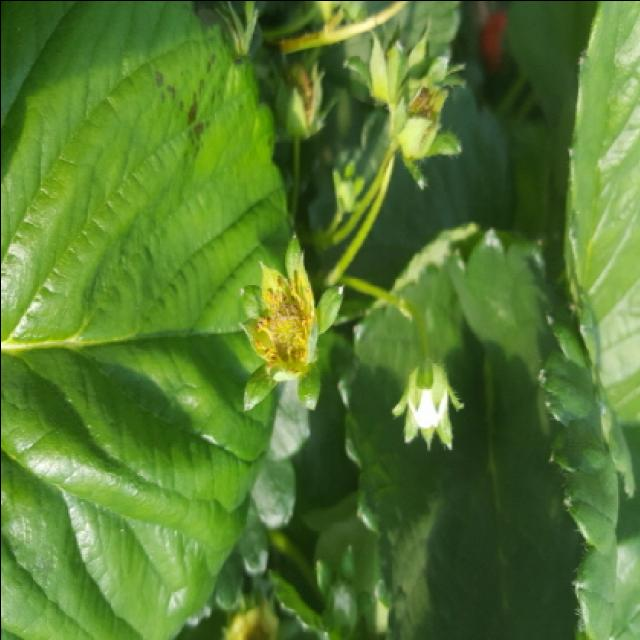Blossom Blight: (248, 265, 320, 379)
